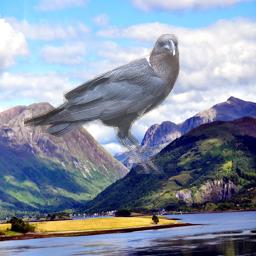Crow: (24, 34, 180, 174)
